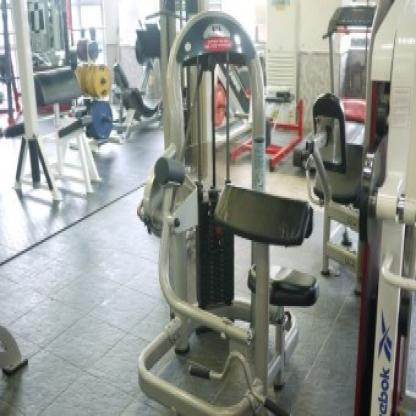arm curl machine: (137, 157, 319, 416)
